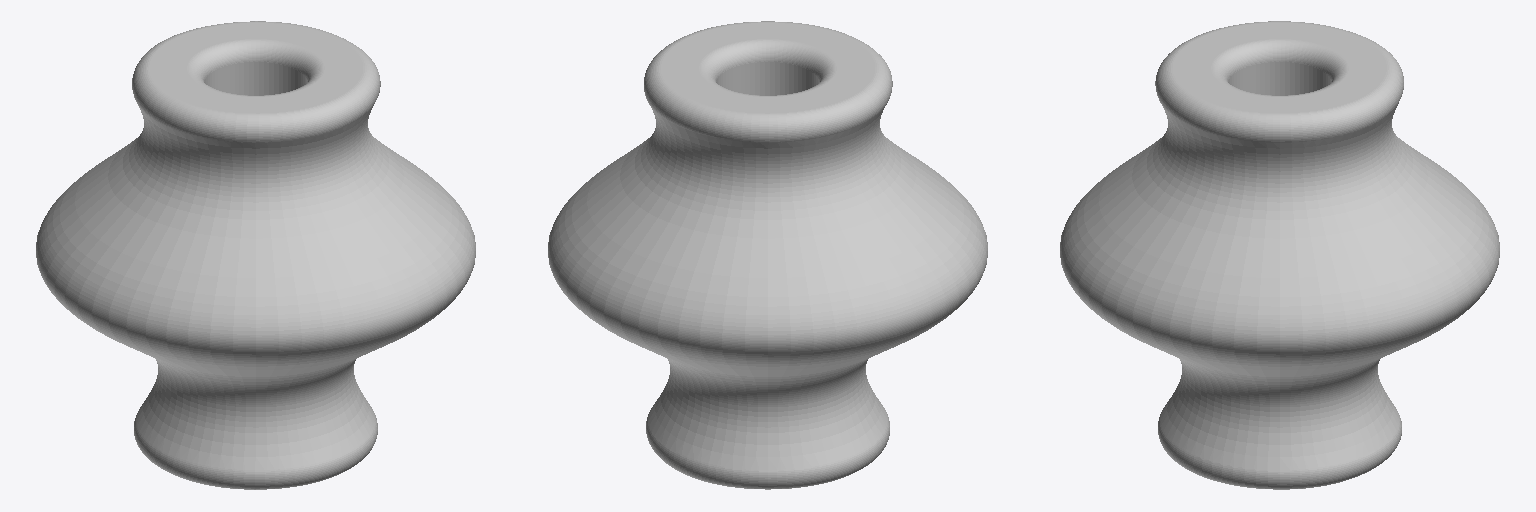
Rendered from Vase_W_Hole.obj.
3 renders of one model, left to right at view 1: azimuth 30°, elevation 25°; view 2: azimuth 150°, elevation 25°; view 3: azimuth 270°, elevation 25°, orthographic.
Bounding box in the file's own units: 40.51 × 38.1 × 40.51.